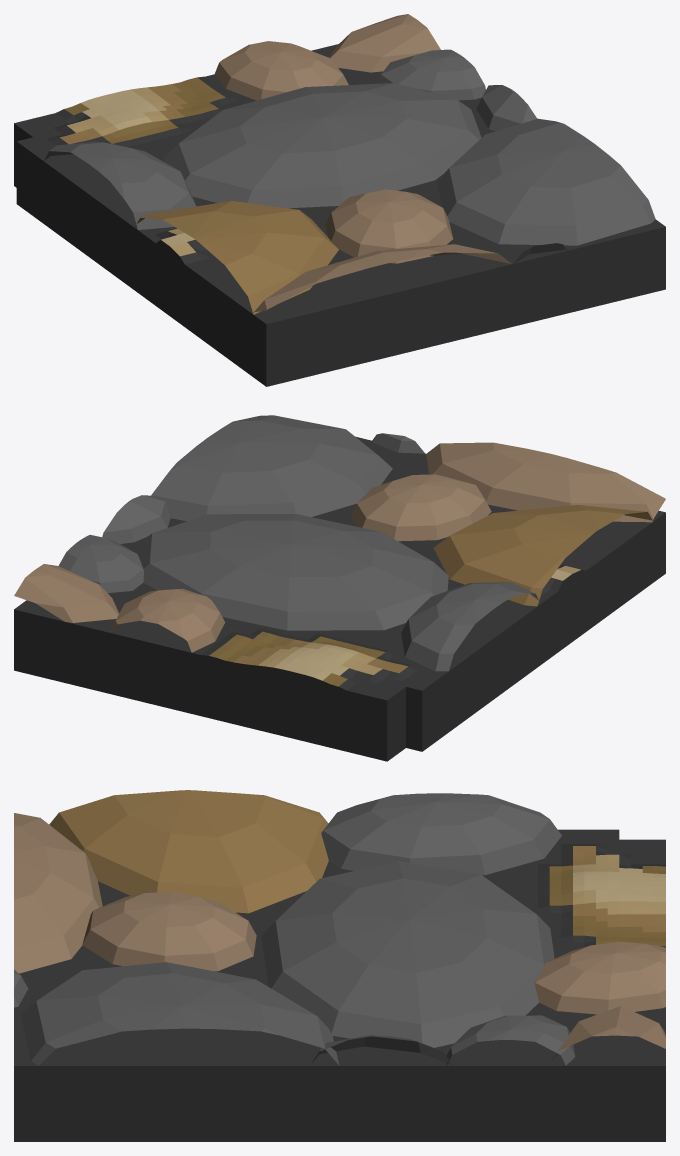
3 views of the same model, one above another, from view 1: azimuth 30°, elevation 25°; view 2: azimuth 150°, elevation 25°; view 3: azimuth 270°, elevation 25° (orthographic). The views are drawn at different scales.
Parts seen in each view (by area): view 1: shapesz-t123; view 2: shapesz-t123; view 3: shapesz-t123.
Part boxes in pixels (<box>): shapesz-t123: <box>14,14,665,386</box>; shapesz-t123: <box>14,415,665,761</box>; shapesz-t123: <box>14,790,665,1141</box>.
Bounding box in the file's own units: 2 × 0.458 × 2.33.
